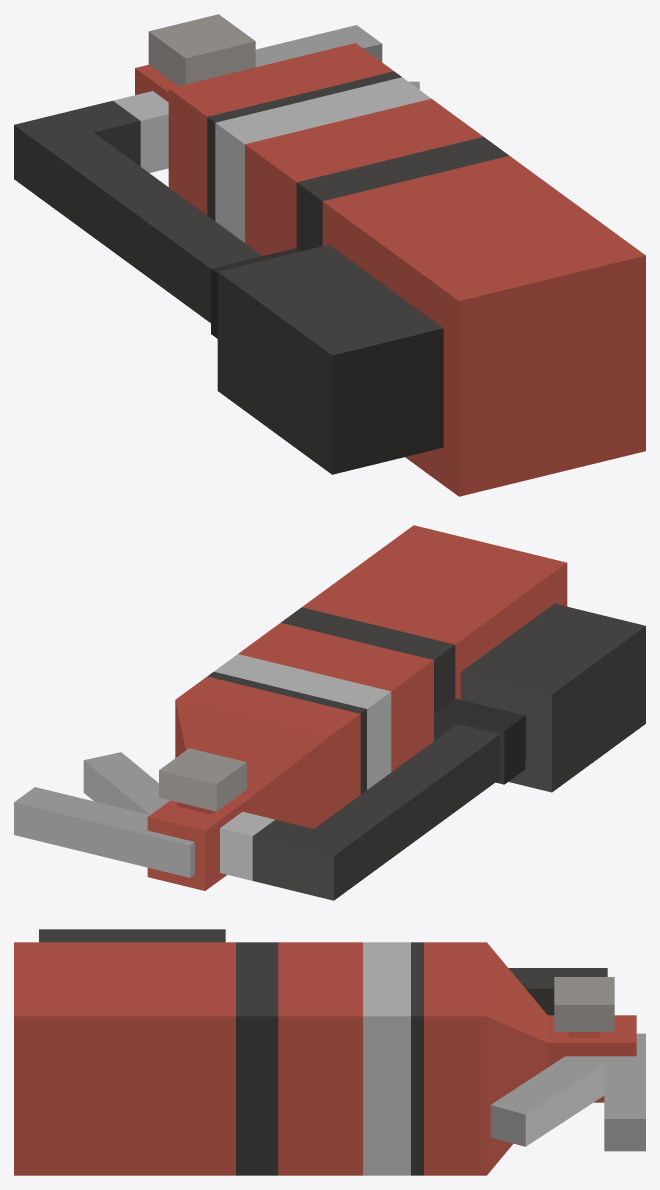
The model's file is FireExtinguisher.glb.
3 renders of one model, top to bottom at view 1: azimuth 30°, elevation 25°; view 2: azimuth 150°, elevation 25°; view 3: azimuth 270°, elevation 25°, orthographic. The views are drawn at different scales.
Parts seen in each view (by area): view 1: SO_FireExtinguisher; view 2: SO_FireExtinguisher; view 3: SO_FireExtinguisher.
Part boxes in pixels (x1,y1,x2,y2): SO_FireExtinguisher: (14,14,645,496); SO_FireExtinguisher: (14,525,645,900); SO_FireExtinguisher: (14,929,645,1175).
Bounding box in the file's own units: 0.6409 × 0.3016 × 1.08.
1 material, 1 textured.
